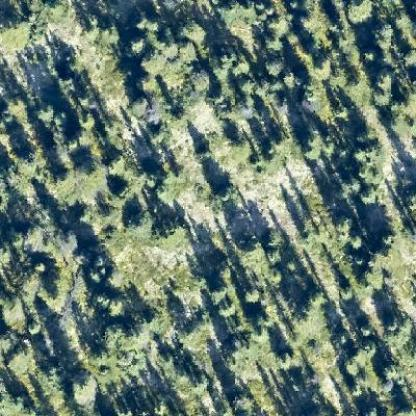tree-top: (217, 2, 259, 40), (66, 370, 98, 405), (237, 231, 268, 265), (124, 202, 154, 237), (380, 315, 412, 344), (175, 16, 207, 43), (300, 130, 332, 156), (161, 214, 188, 243), (140, 44, 166, 72), (344, 0, 374, 23), (16, 148, 42, 174), (261, 53, 289, 77), (79, 157, 104, 182), (106, 293, 128, 316), (218, 295, 238, 315)
